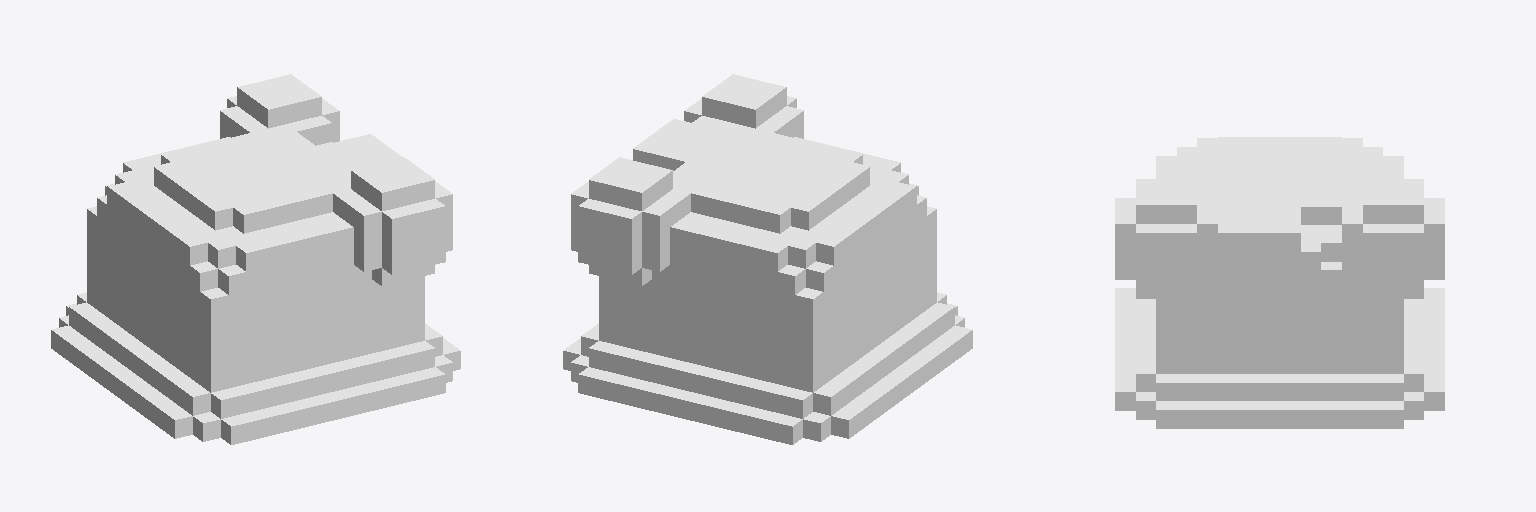
Rendered from Slime1.obj.
3 renders of one model, left to right at view 1: azimuth 30°, elevation 25°; view 2: azimuth 150°, elevation 25°; view 3: azimuth 270°, elevation 25°, orthographic.
Parts seen in each view (by area): view 1: object 1; view 2: object 1; view 3: object 1.
Part boxes in pixels (bbox=[...]): object 1: bbox=[51, 74, 460, 444]; object 1: bbox=[563, 74, 972, 444]; object 1: bbox=[1115, 137, 1444, 428].
Bounding box in the file's own units: 1.6 × 1.1 × 1.6.